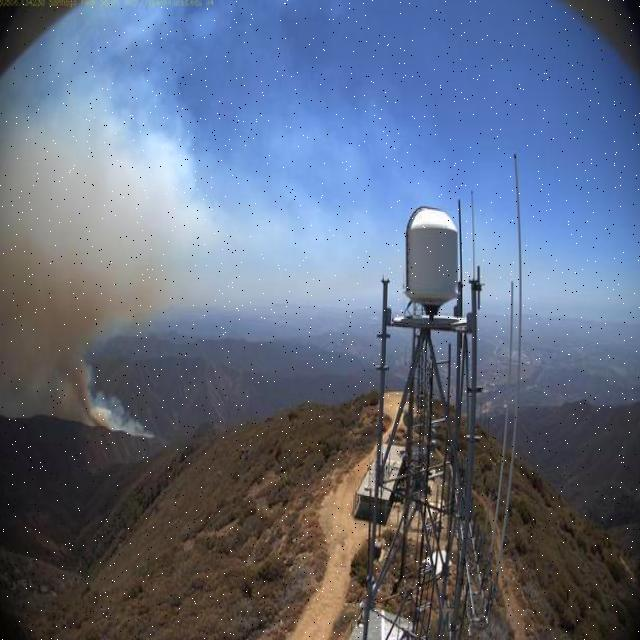smoke: (0, 71, 192, 442)
